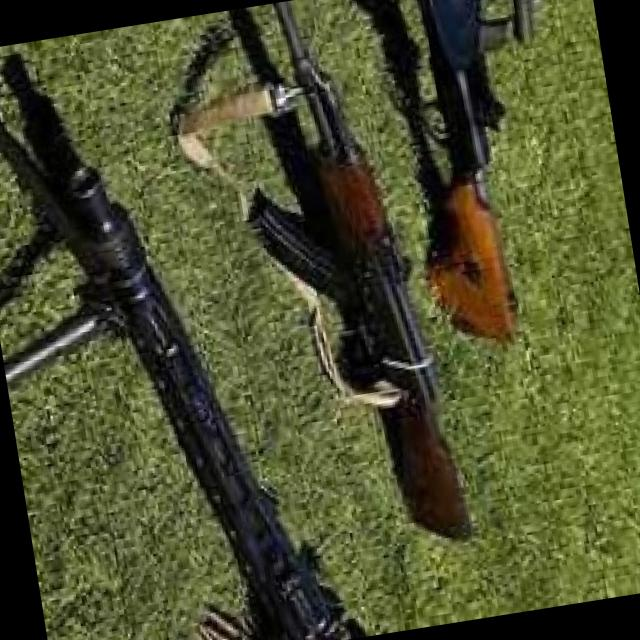long weapon: (0, 30, 348, 608), (182, 0, 487, 604)
